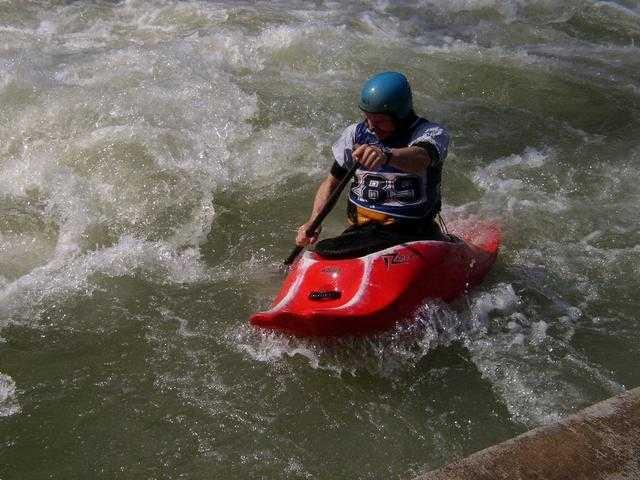kayak: (248, 222, 500, 341)
